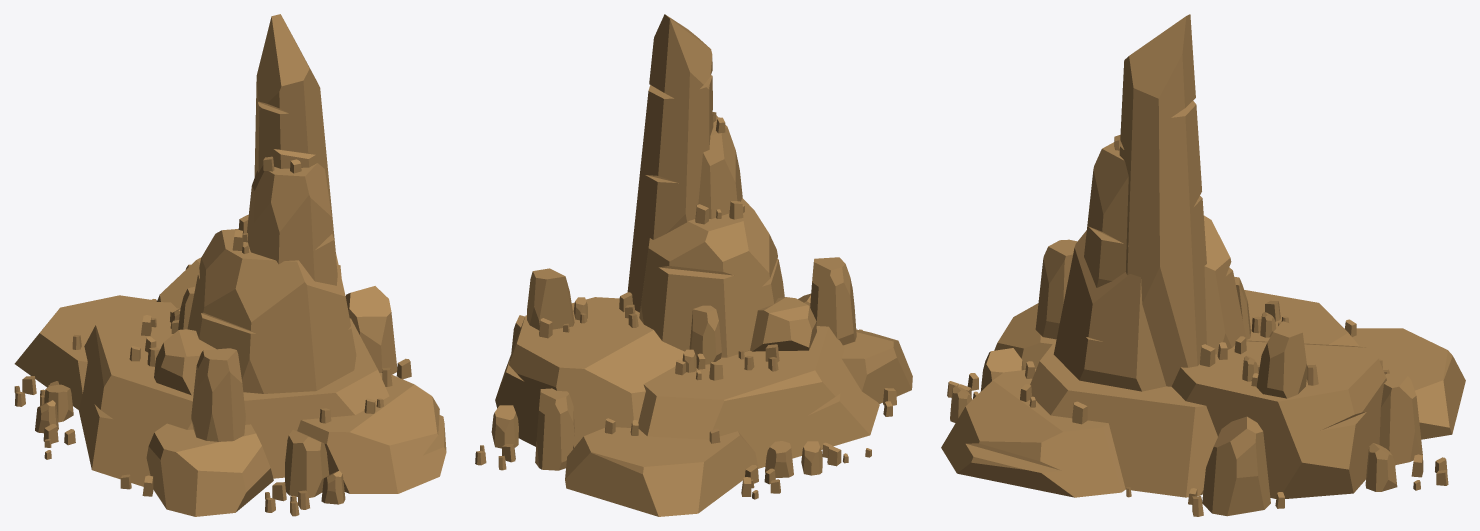
The model's file is roca03.fbx.
3 renders of one model, left to right at view 1: azimuth 30°, elevation 25°; view 2: azimuth 150°, elevation 25°; view 3: azimuth 270°, elevation 25°, orthographic. The views are drawn at different scales.
Parts seen in each view (by area): view 1: big_rock_03_Cylinder_068; view 2: big_rock_03_Cylinder_068; view 3: big_rock_03_Cylinder_068.
Boxes of the visible parts, left/top/right/bottom form: big_rock_03_Cylinder_068: left=14, top=14, right=446, bottom=516; big_rock_03_Cylinder_068: left=475, top=14, right=912, bottom=516; big_rock_03_Cylinder_068: left=941, top=14, right=1465, bottom=516.
Size of the model in its own units: 317 by 335 by 370.
